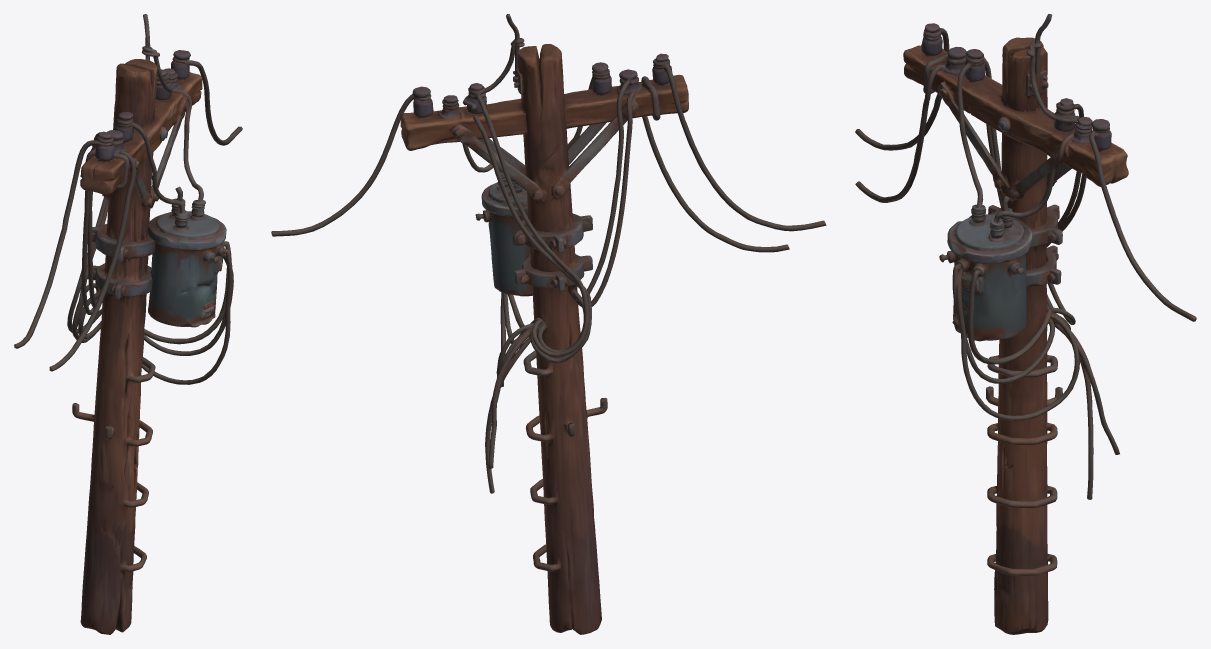
Rendered from pole_wood.glb.
3 views of the same model, side by side, from view 1: azimuth 30°, elevation 25°; view 2: azimuth 150°, elevation 25°; view 3: azimuth 270°, elevation 25° (orthographic). The views are drawn at different scales.
Visible parts, largest first — view 1: tripo_node_efbb0334-0465-4414-97de-35d0585ceda7; view 2: tripo_node_efbb0334-0465-4414-97de-35d0585ceda7; view 3: tripo_node_efbb0334-0465-4414-97de-35d0585ceda7.
Boxes of the visible parts, x1=… form: tripo_node_efbb0334-0465-4414-97de-35d0585ceda7: x1=14, y1=14, x2=242, y2=634; tripo_node_efbb0334-0465-4414-97de-35d0585ceda7: x1=271, y1=14, x2=826, y2=634; tripo_node_efbb0334-0465-4414-97de-35d0585ceda7: x1=855, y1=14, x2=1196, y2=634.
Bounding box in the file's own units: 0.6666 × 0.9805 × 0.4754.
Materials: 1 (1 with a texture image).
